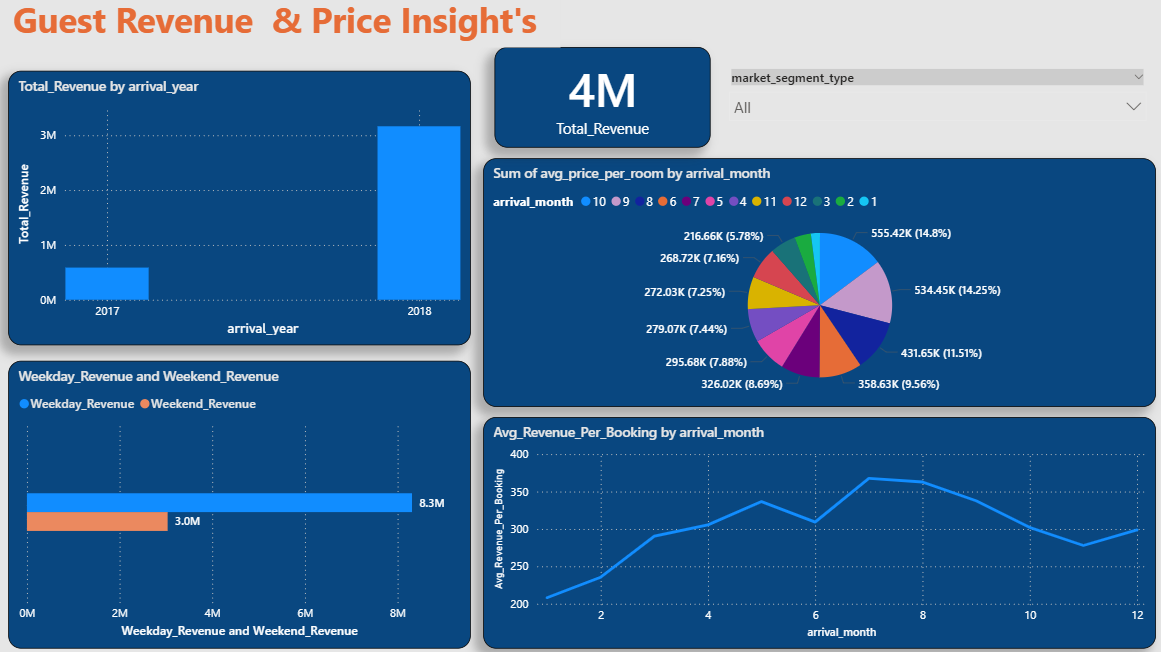

This screenshot's page, from the dashboard's own definition file:
{"tool":"powerbi","page":{"name":"Revenue and Price ","canvas":[1280,720],"ordinal":1},"visuals":[{"type":"pieChart","fields":{"Category":["Hotel Reservation Analysis.arrival_month"],"Y":["Sum(Hotel Reservation Analysis.avg_price_per_room)"]},"box":[541.7,179.8,727.6,269],"z":0},{"type":"lineChart","fields":{"Y":["Hotel Reservation Analysis.Avg_Revenue_Per_Booking"],"Category":["Hotel Reservation Analysis.arrival_month"]},"box":[541.7,459.8,727.6,250.7],"z":1000},{"type":"slicer","fields":{"Values":["Hotel Reservation Analysis.market_segment_type"]},"box":[797.1,78.6,471.4,71.4],"z":2000},{"type":"clusteredBarChart","fields":{"Y":["Hotel Reservation Analysis.Weekday_Revenue","Hotel Reservation Analysis.Weekend_Revenue"]},"box":[28.6,398.6,500,311.4],"z":3000},{"type":"card","fields":{"Values":["Hotel Reservation Analysis.Total_Revenue"]},"box":[553.9,59.9,233.6,108.8],"z":4000},{"type":"clusteredColumnChart","fields":{"Category":["Hotel Reservation Analysis.arrival_year","Hotel Reservation Analysis.arrival_month"],"Y":["Hotel Reservation Analysis.Total_Revenue"]},"box":[28.6,85.7,500,297.1],"z":5000},{"type":"textbox","box":[28.1,0,596.7,59.9],"z":6000}]}

Visuals, with their boxes in screenshot pixels (x1, y1, x2, y2), scaled from the page's 1280x720 canvas onto the 1161x652 screenshot:
pieChart - Hotel Reservation Analysis.arrival_month x Sum(Hotel Reservation Analysis.avg_price_per_room): 491,163,1151,406
lineChart - Hotel Reservation Analysis.Avg_Revenue_Per_Booking x Hotel Reservation Analysis.arrival_month: 491,416,1151,643
slicer - Hotel Reservation Analysis.market_segment_type: 723,71,1151,136
clusteredBarChart - Hotel Reservation Analysis.Weekday_Revenue x Hotel Reservation Analysis.Weekend_Revenue: 26,361,479,643
card - Hotel Reservation Analysis.Total_Revenue: 502,54,714,153
clusteredColumnChart - Hotel Reservation Analysis.arrival_year x Hotel Reservation Analysis.arrival_month: 26,78,479,347
textbox: 25,0,567,54
